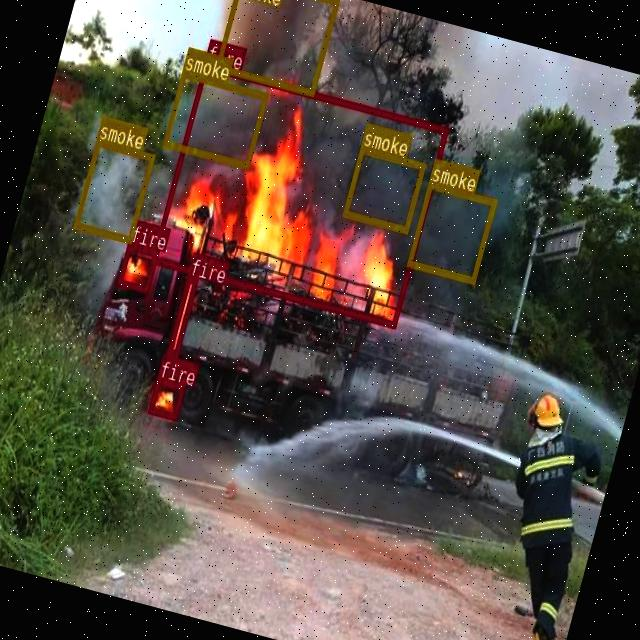fire: (150, 60, 448, 328), (165, 274, 197, 355), (115, 240, 158, 292), (147, 376, 185, 418)
smoke: (214, 0, 339, 94), (162, 69, 268, 167), (406, 180, 496, 282), (73, 138, 154, 242), (342, 144, 426, 232)
